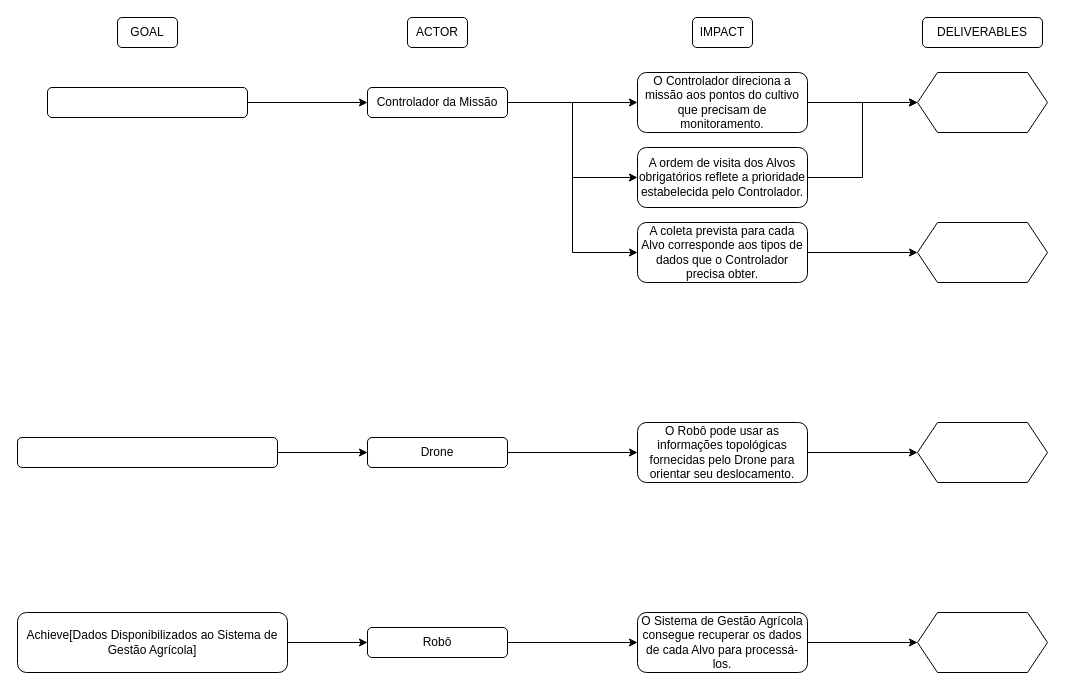
Some shapes in this 1065 by 690 pixel diagram are drawn without their labels. The centre of each missing label's shape, as x and y in pixels:
"Achieve[Informações Topológicas Disponíveis]" belongs at [147,452].
"Achieve[Plano de Missão Definido]" belongs at [147,102].
"Configuração da Coleta" belongs at [982,252].
"Configuração dos Alvos" belongs at [982,102].
"Consulta aos Dados das Coletas" belongs at [982,642].
"Intercomunicação com Drone" belongs at [982,452].
